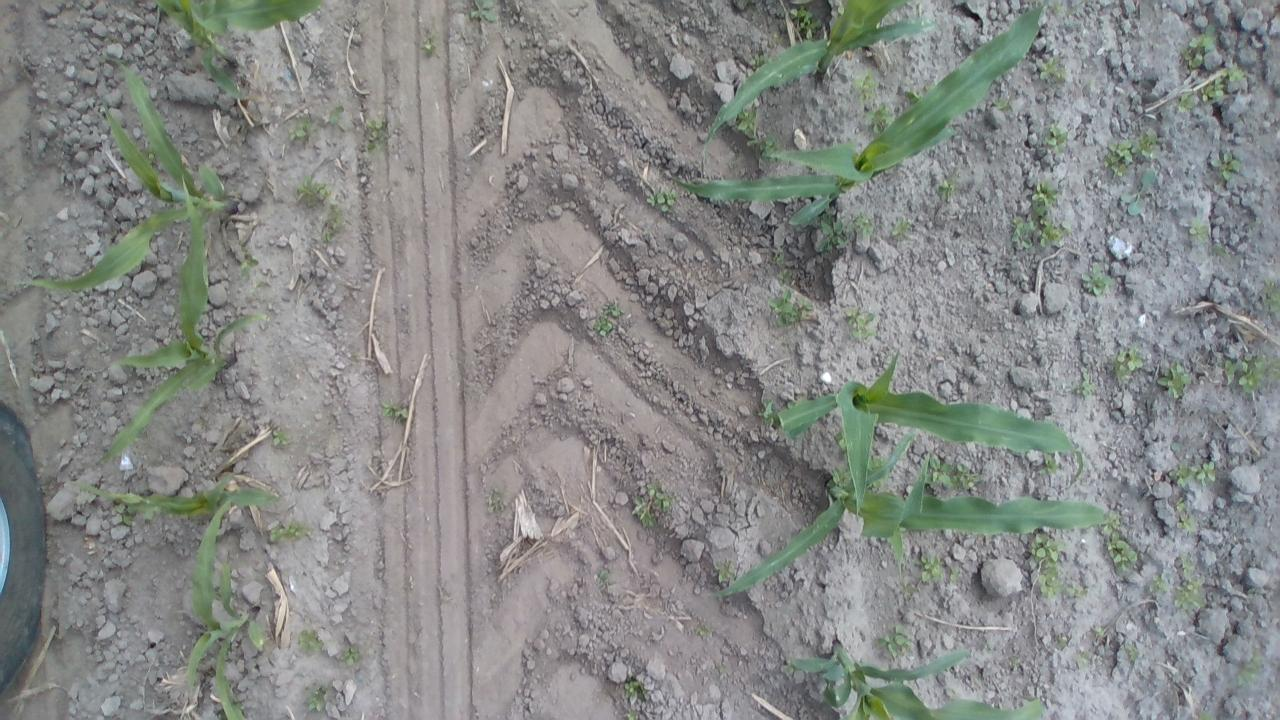Maize: (662, 1, 1046, 228), (704, 426, 1118, 600), (759, 343, 1079, 519), (11, 52, 237, 296), (99, 170, 270, 476), (62, 502, 270, 720), (701, 2, 943, 176), (786, 636, 1048, 720), (153, 0, 324, 100), (61, 476, 274, 520)
Weeds: (1008, 186, 1074, 250), (1176, 65, 1248, 114), (726, 101, 782, 164), (815, 209, 869, 258), (1026, 531, 1063, 600), (1221, 352, 1280, 394), (1103, 134, 1158, 176), (1103, 509, 1139, 573), (833, 452, 893, 490), (766, 290, 818, 332), (632, 484, 674, 530), (921, 454, 979, 487), (1174, 554, 1206, 612), (1121, 168, 1159, 214), (1154, 362, 1194, 402), (787, 5, 829, 40), (1169, 460, 1218, 488), (862, 96, 898, 132), (878, 624, 915, 659), (842, 306, 877, 342), (1234, 652, 1266, 690), (596, 296, 624, 338), (265, 520, 306, 548), (294, 176, 332, 206), (1208, 151, 1244, 182), (646, 184, 680, 216), (362, 116, 391, 152), (1081, 265, 1113, 297), (1185, 28, 1218, 59), (622, 677, 644, 720), (1116, 346, 1142, 382), (322, 202, 344, 243), (1174, 496, 1198, 531), (916, 552, 943, 582), (1035, 55, 1062, 84), (1074, 366, 1094, 399), (772, 253, 792, 285), (851, 70, 875, 96), (1260, 282, 1280, 313), (287, 119, 309, 147), (716, 558, 736, 587), (892, 216, 914, 242), (118, 501, 144, 523), (1148, 573, 1172, 596), (298, 629, 322, 652), (1034, 452, 1057, 476), (306, 687, 328, 711), (471, 1, 497, 20), (380, 402, 406, 419), (1046, 125, 1066, 147), (1128, 640, 1146, 662), (420, 27, 434, 55), (1064, 584, 1086, 600), (492, 487, 504, 516), (748, 55, 771, 70), (326, 105, 344, 123), (1187, 222, 1209, 236), (344, 646, 358, 666), (238, 261, 252, 281), (948, 563, 961, 583), (596, 565, 610, 583), (939, 178, 952, 197), (273, 433, 292, 446), (1056, 637, 1071, 651), (994, 96, 1010, 109), (782, 662, 795, 676), (696, 624, 709, 637), (1009, 656, 1022, 669), (1092, 626, 1106, 638), (1079, 654, 1089, 668)
